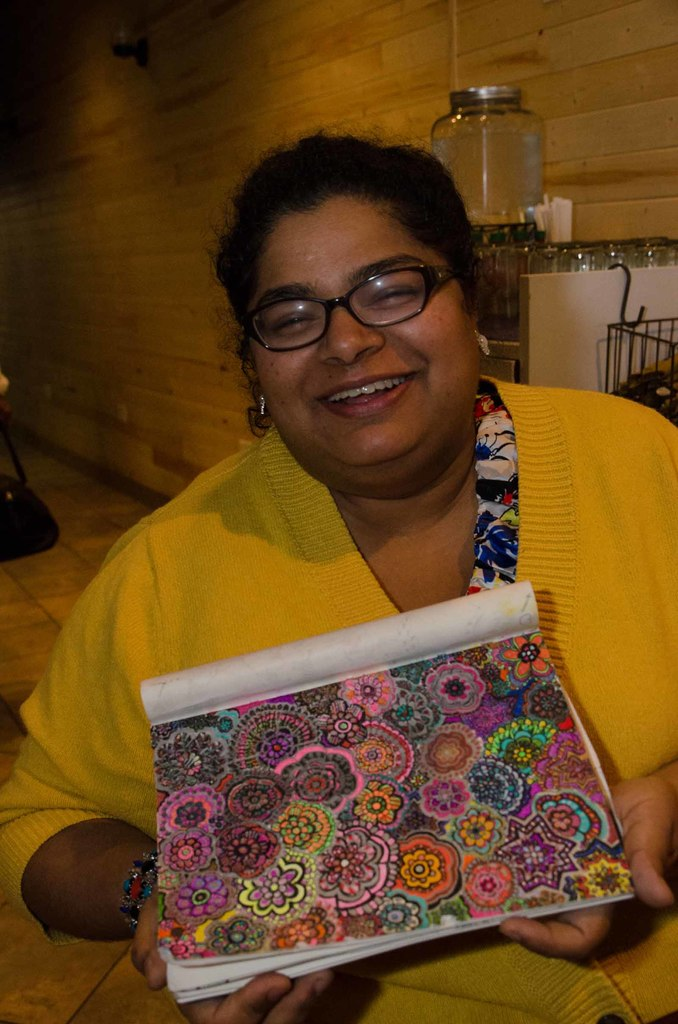Human-face: (248, 189, 481, 480)
